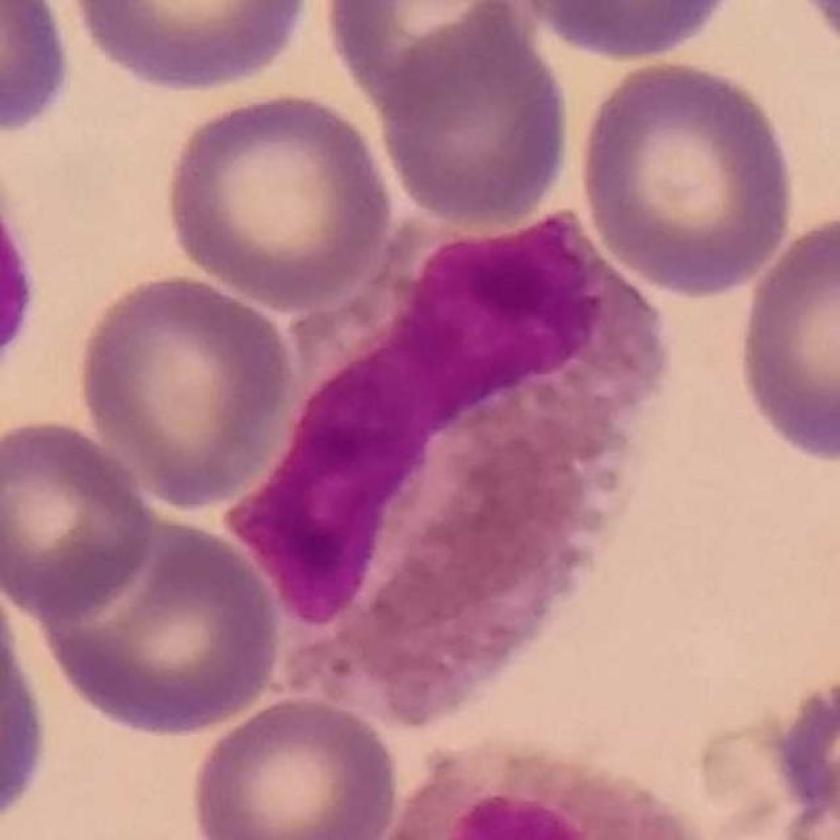eosinophil: (222, 199, 675, 732)
